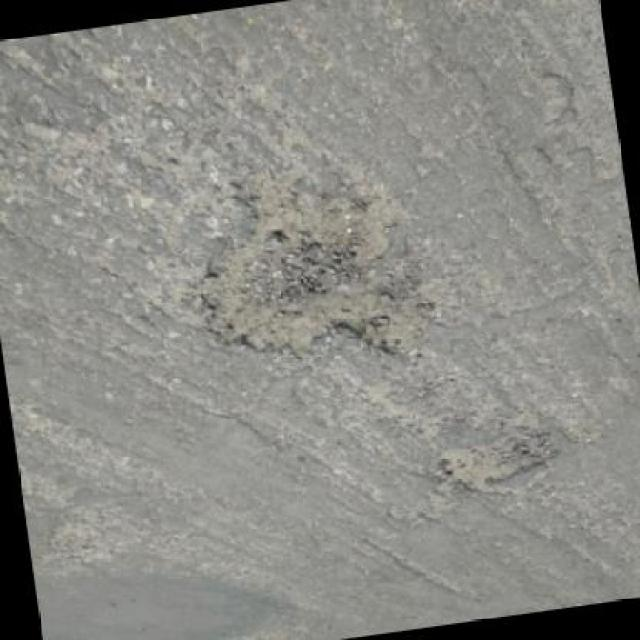pothole: (187, 161, 436, 388), (430, 423, 568, 506)
